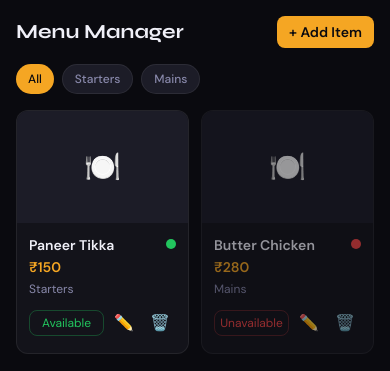
Test: PF11 - Menu Manager › Delete item removes it from the grid
The width and height of the screenshot is (390, 371).
Step 1. Click the button with test id "delete-item-001" → (160, 323), box 144,305 -> 176,341
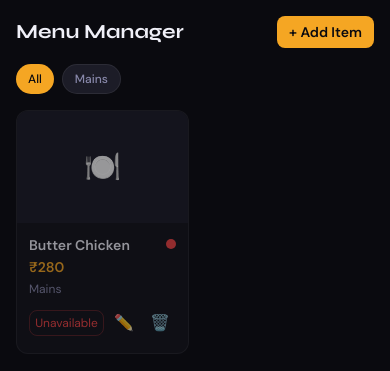
Expected: the element with test id "item-card-item-001" is gone
